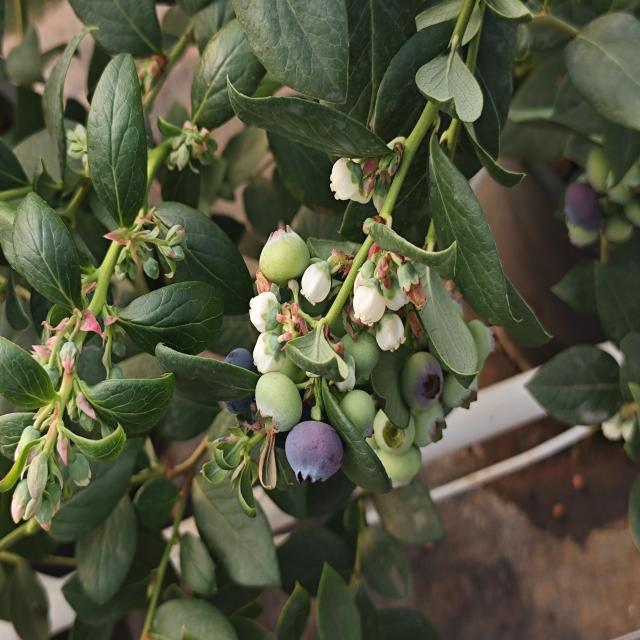ripe: (284, 412, 346, 492), (209, 340, 259, 418), (558, 175, 610, 237)
